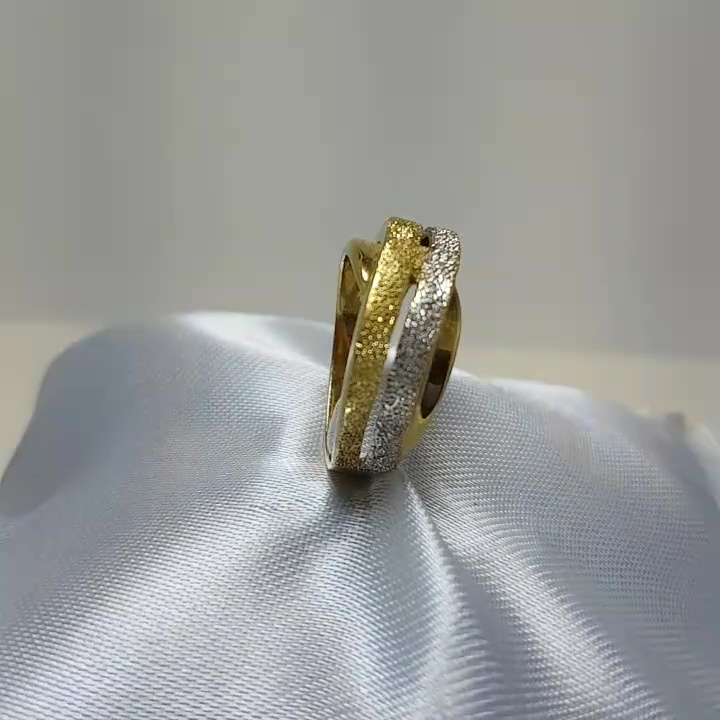Ring 5: (294, 205, 481, 509)
